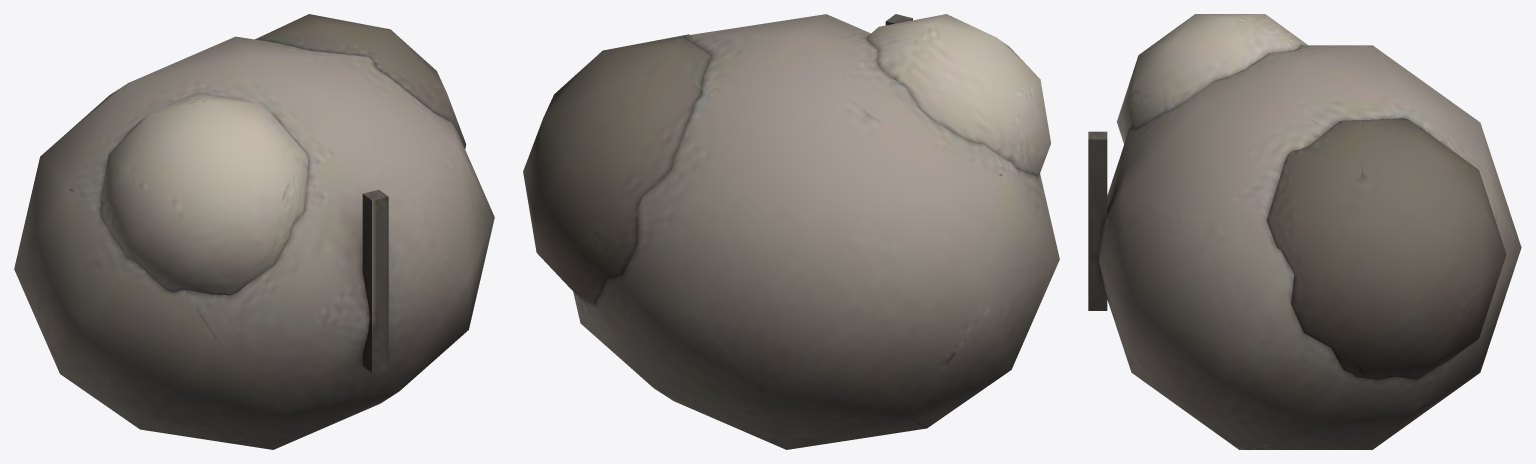
File: roca_caida.glb
3 views of the same model, side by side, from view 1: azimuth 30°, elevation 25°; view 2: azimuth 150°, elevation 25°; view 3: azimuth 270°, elevation 25° (orthographic). The views are drawn at different scales.
Parts seen in each view (by area): view 1: roca_caida; view 2: roca_caida; view 3: roca_caida.
Part boxes in pixels (box(x1,y1,x2,y2)): roca_caida: box(14, 14, 494, 449); roca_caida: box(523, 14, 1059, 449); roca_caida: box(1088, 14, 1521, 449).
Size of the model in its own units: 1.29 by 1.09 by 1.14.
1 material, 1 textured.
